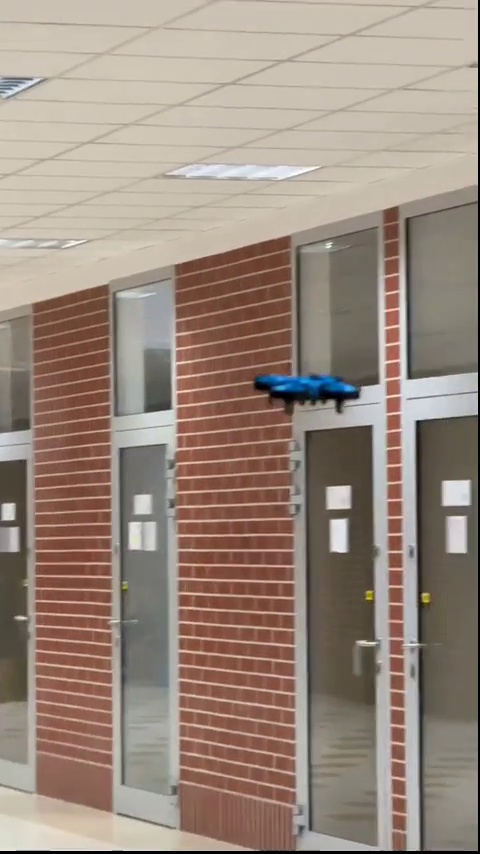drone: (253, 366, 358, 411)
